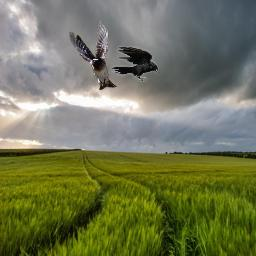Crow: (110, 46, 159, 82)
Swallow: (69, 19, 117, 90)
